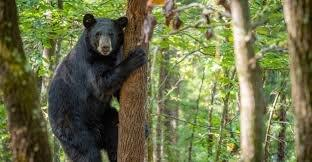bear: (48, 13, 148, 161)
